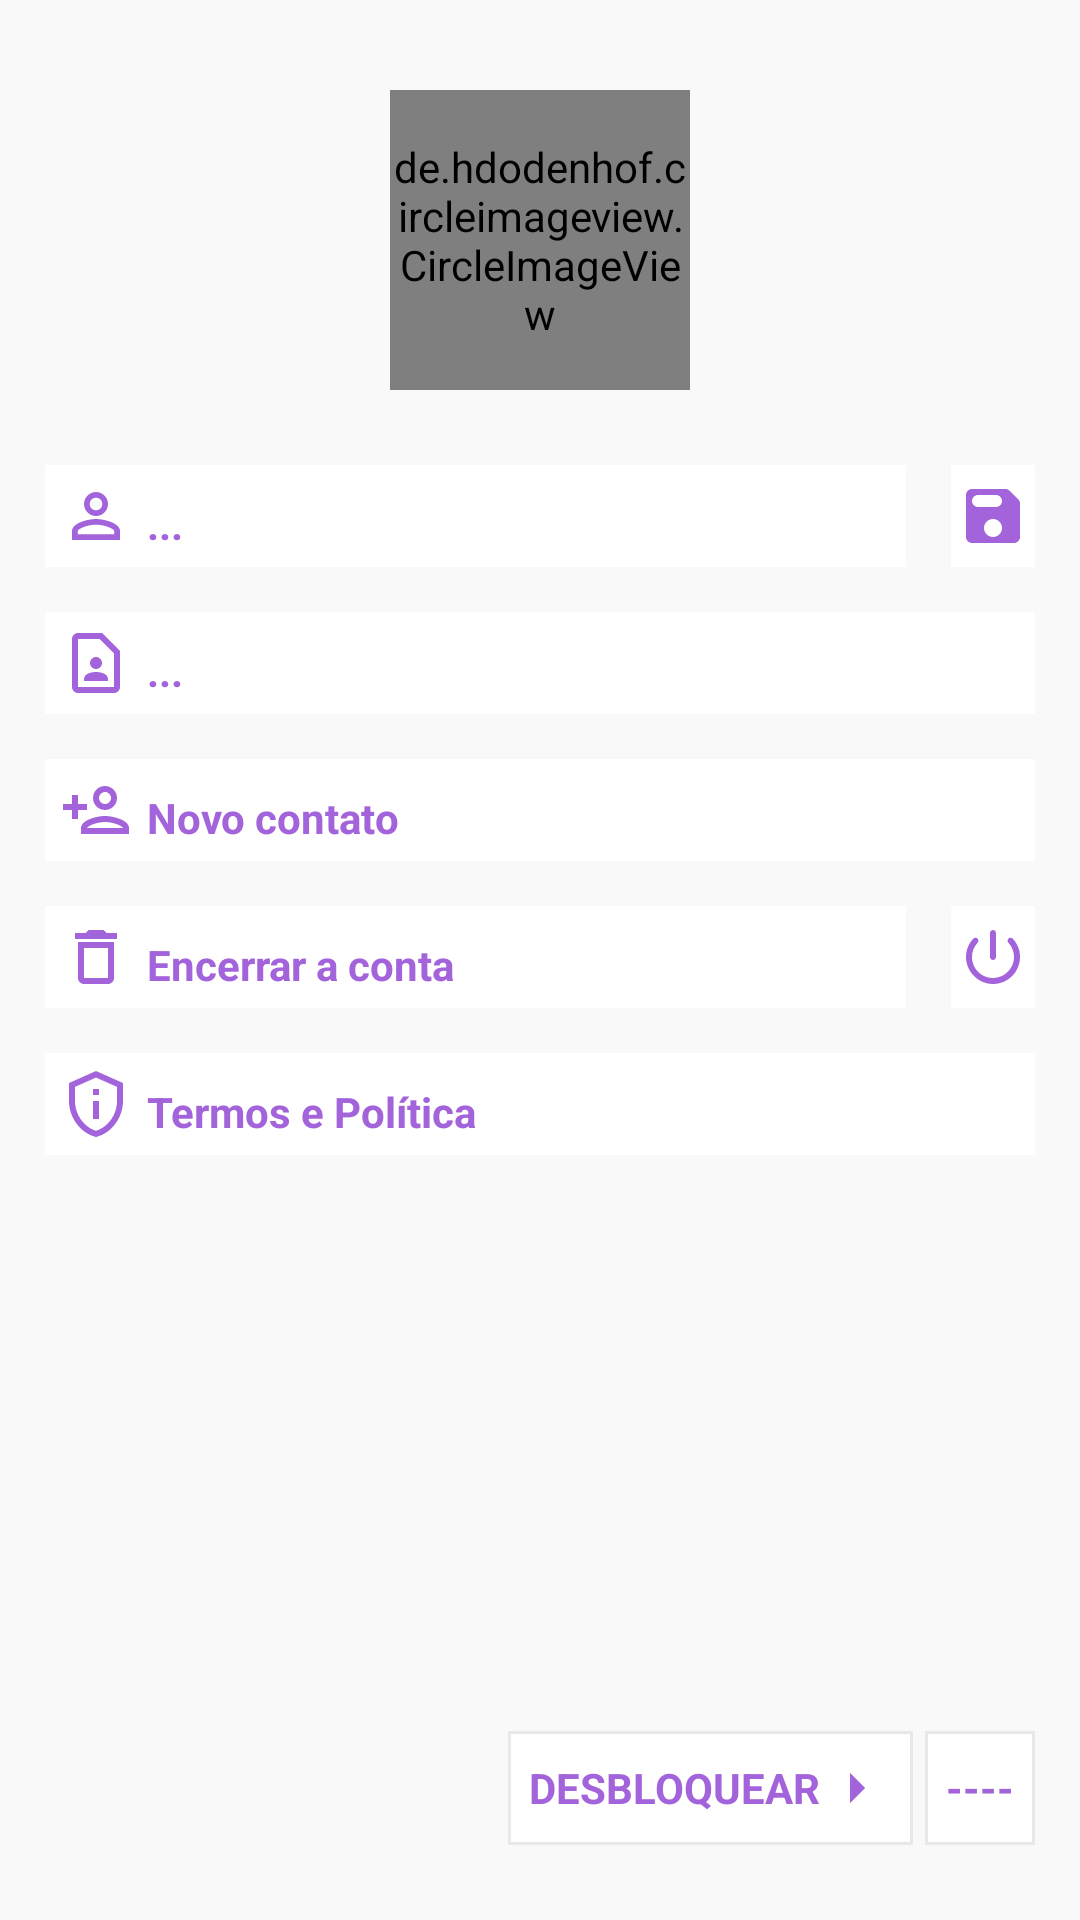

Point at icon controls on the screen. Image size 1080x1920, points as point (x, y).
save: point (993, 516)
